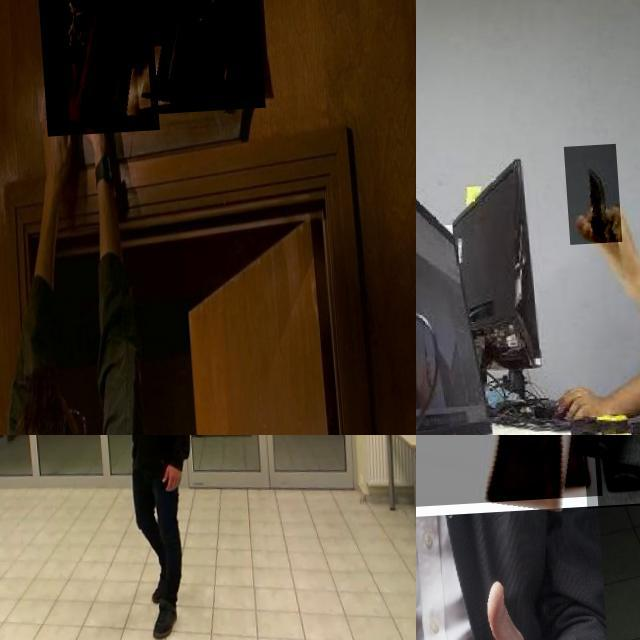-: (560, 150, 618, 250)
gun-knife-thesis - v11 Yolov5 augmented: (416, 435, 598, 590), (35, 0, 156, 138), (140, 0, 262, 118), (566, 435, 640, 588), (44, 435, 79, 458)
